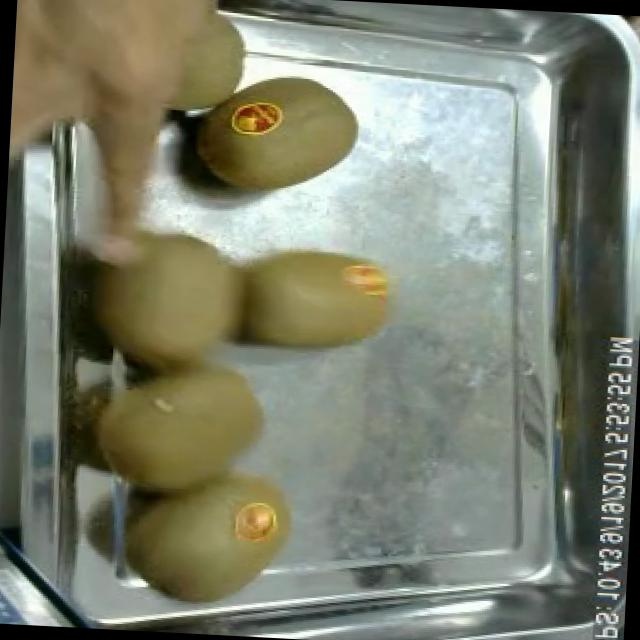Fruit: (7, 0, 257, 198), (66, 181, 282, 390), (65, 329, 282, 522), (111, 440, 306, 621), (180, 63, 368, 206), (234, 238, 404, 364)
